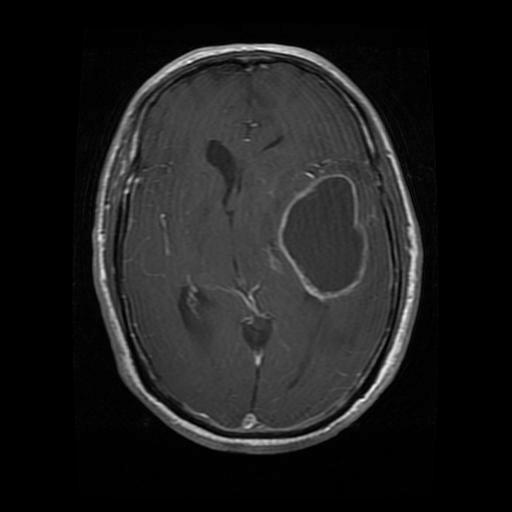Tumour-Glioma: (271, 171, 392, 306)
